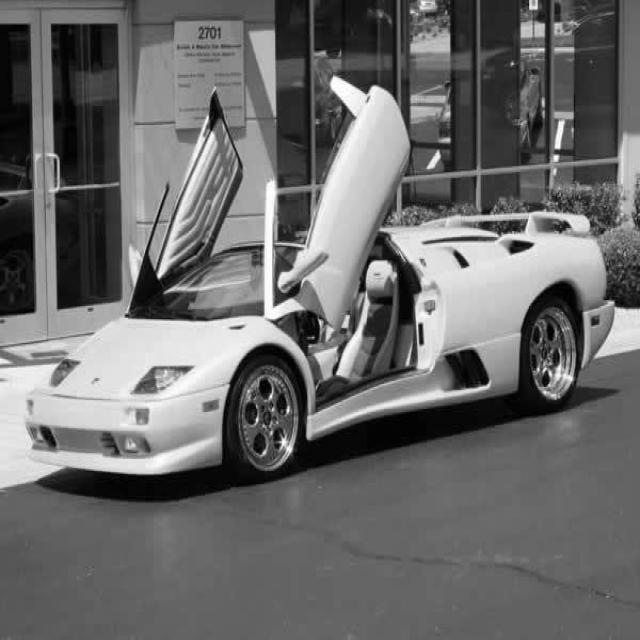plat_license: (23, 74, 616, 481)
